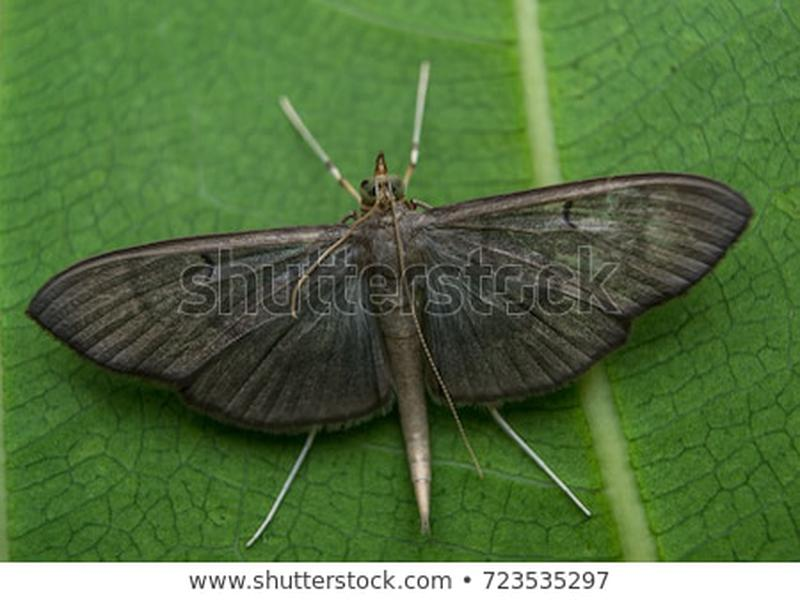Leaf_folder: (44, 151, 762, 463)
